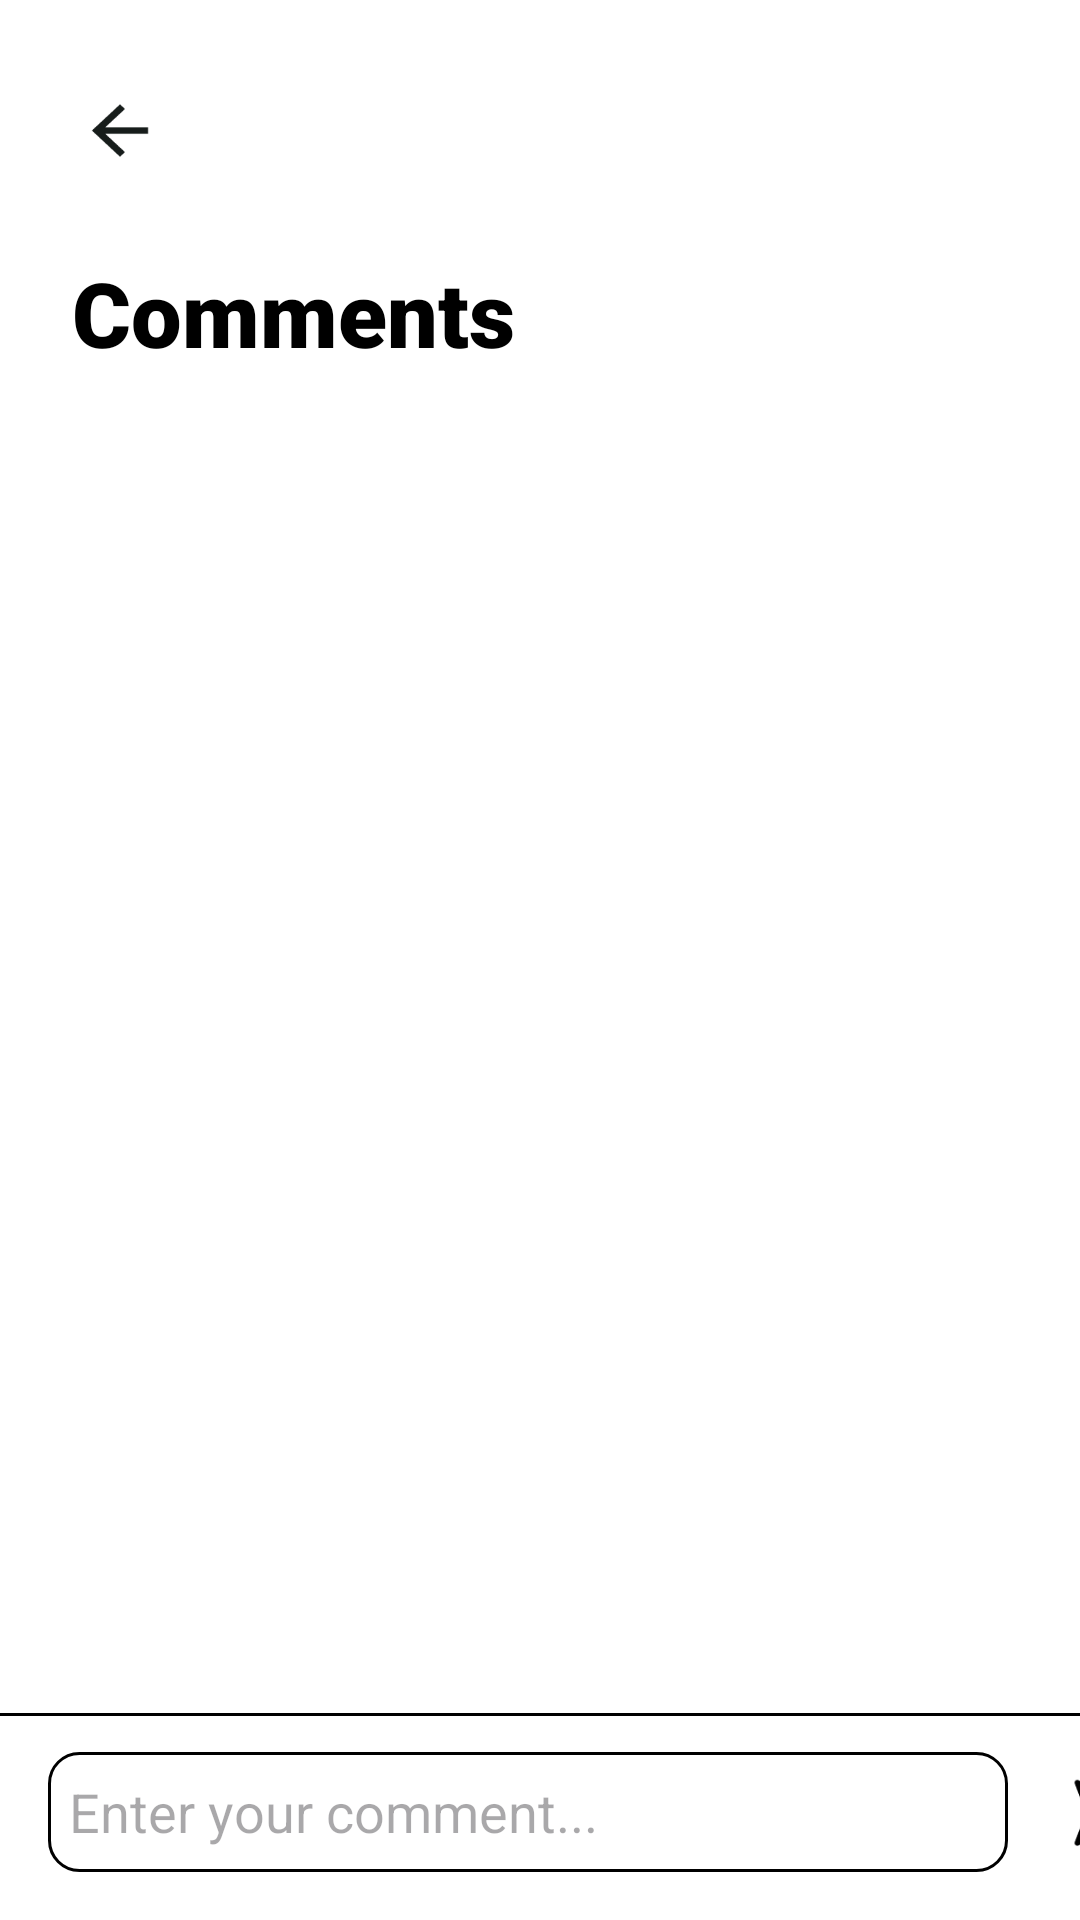

Where icons sit on this 1080 x 1920 app screen, as (x1, y1, x2, y2):
arrow back: (92, 104, 149, 157)
